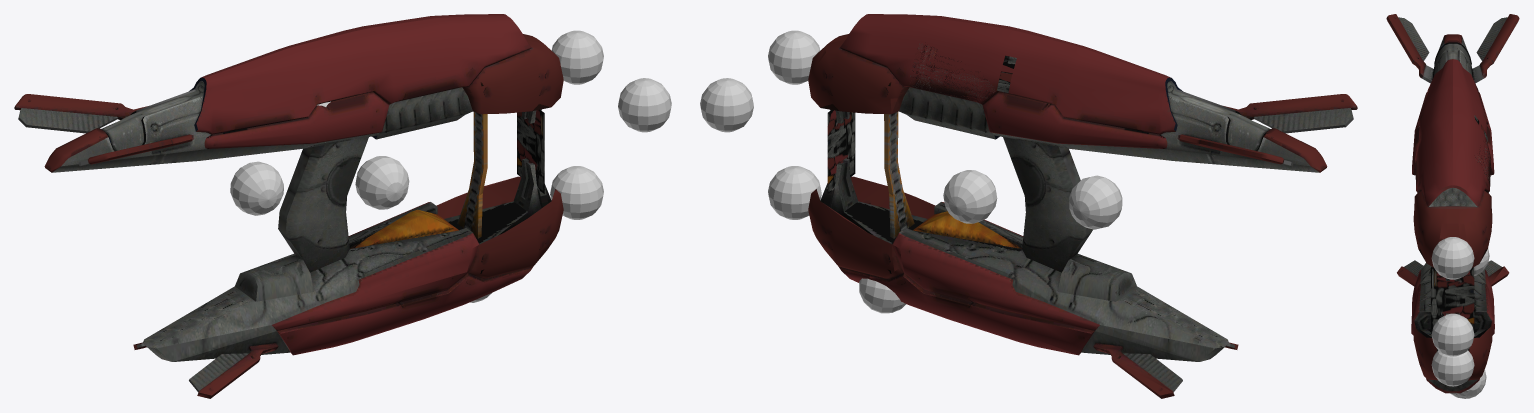
File: Brute Plasma Rifle.obj
The picture shows the model from 3 angles, left to right: view 1: azimuth 30°, elevation 25°; view 2: azimuth 150°, elevation 25°; view 3: azimuth 270°, elevation 25°; orthographic projection. The views are drawn at different scales.
Visible parts, largest first — view 1: default_default1, claymore_stick_biped4, bulletwater_2, weapon_stow_anchor, primary_trigger_ncl1_1, primary_trigger; view 2: default_default1, claymore_stick_biped4, weapon_stow_anchor, bulletwater_2, primary_trigger_ncl1_1, primary_trigger, left_hand; view 3: default_default1, claymore_stick_biped4, primary_trigger, primary_trigger_ncl1_1, left_hand, bulletwater_2.
Boxes of the visible parts, box(x1,y1,x2,y2) form: default_default1: box(14, 14, 563, 398); claymore_stick_biped4: box(618, 78, 671, 132); bulletwater_2: box(355, 156, 409, 209); weapon_stow_anchor: box(230, 161, 283, 215); primary_trigger_ncl1_1: box(550, 166, 603, 219); primary_trigger: box(551, 30, 603, 84); default_default1: box(808, 14, 1357, 398); claymore_stick_biped4: box(700, 78, 753, 132); weapon_stow_anchor: box(1069, 175, 1122, 229); bulletwater_2: box(943, 170, 997, 223); primary_trigger_ncl1_1: box(768, 166, 821, 219); primary_trigger: box(768, 30, 820, 84); left_hand: box(859, 278, 904, 313); default_default1: box(1386, 14, 1519, 393); claymore_stick_biped4: box(1431, 313, 1474, 356); primary_trigger: box(1431, 237, 1474, 279); primary_trigger_ncl1_1: box(1431, 350, 1474, 386); left_hand: box(1455, 370, 1486, 398); bulletwater_2: box(1474, 248, 1489, 275).
Size of the model in its own units: 26.35 by 12.35 by 6.2.
Materials: 2 (1 with a texture image).
